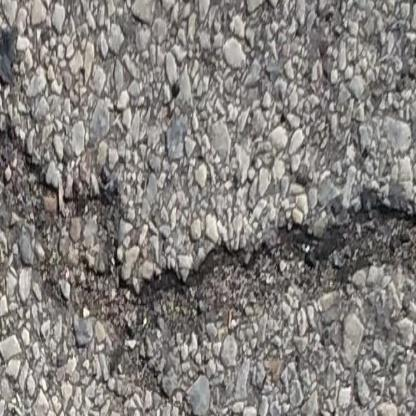Cracks: (0, 110, 416, 377)
